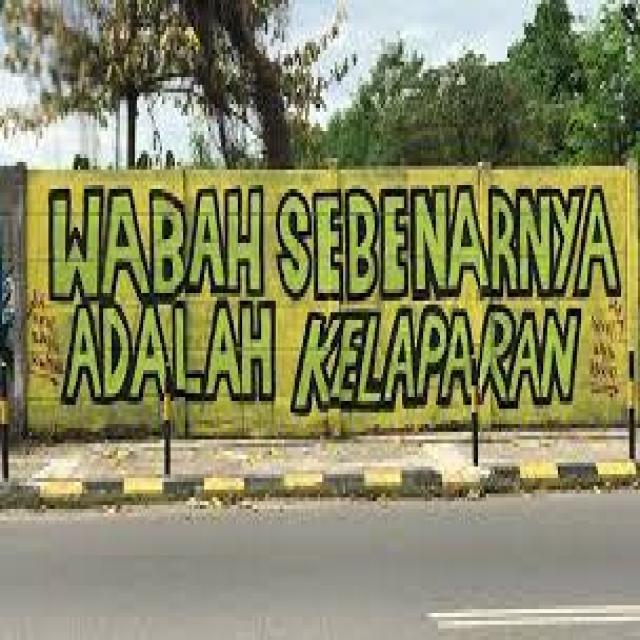-: (50, 187, 628, 403)
